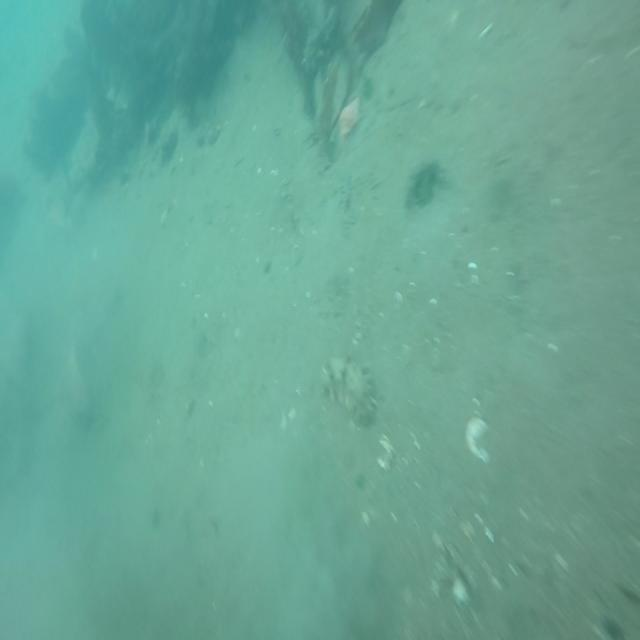holothurian: (315, 358, 376, 427)
